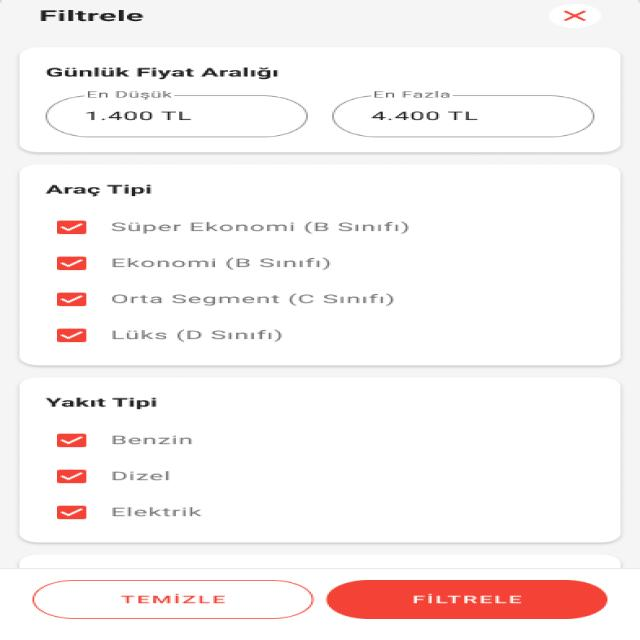QLabel: (38, 66, 286, 79), (40, 393, 162, 412), (39, 180, 156, 198), (112, 592, 234, 606), (34, 8, 147, 23), (403, 594, 529, 606)
VBtn: (30, 579, 315, 620), (328, 580, 611, 620)
VCard: (13, 163, 627, 368), (9, 374, 631, 546), (15, 46, 627, 155)
VCheckbox: (42, 216, 413, 238), (42, 288, 396, 310), (42, 252, 343, 274), (47, 325, 290, 346), (45, 502, 202, 522), (49, 465, 179, 486), (46, 432, 197, 449)
VFooter: (0, 568, 640, 640)
VIcon: (546, 3, 603, 29)
VTextField: (45, 90, 311, 139), (332, 90, 598, 138)
